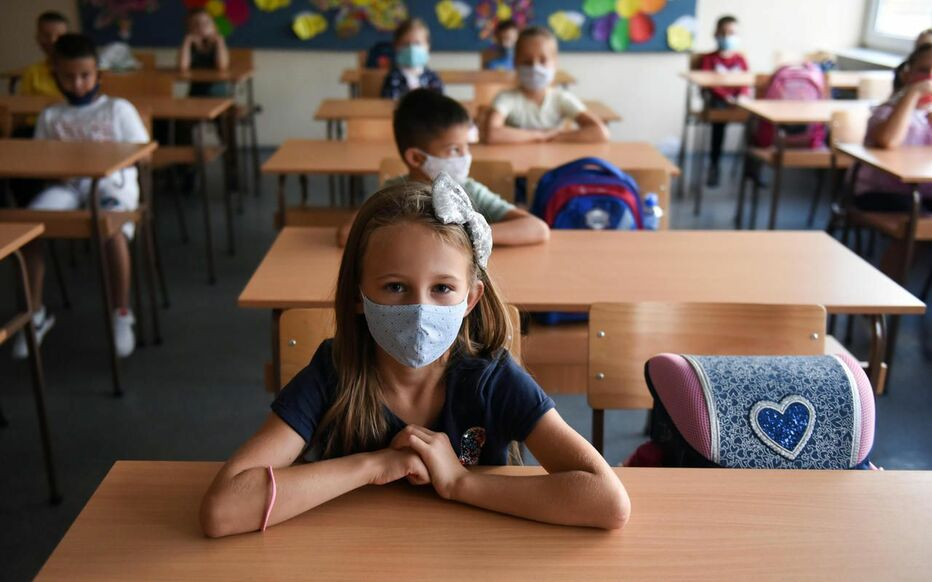with_incorrect_mask: (52, 50, 99, 107)
with_mask: (357, 220, 474, 365), (411, 110, 480, 185), (515, 38, 557, 94)
